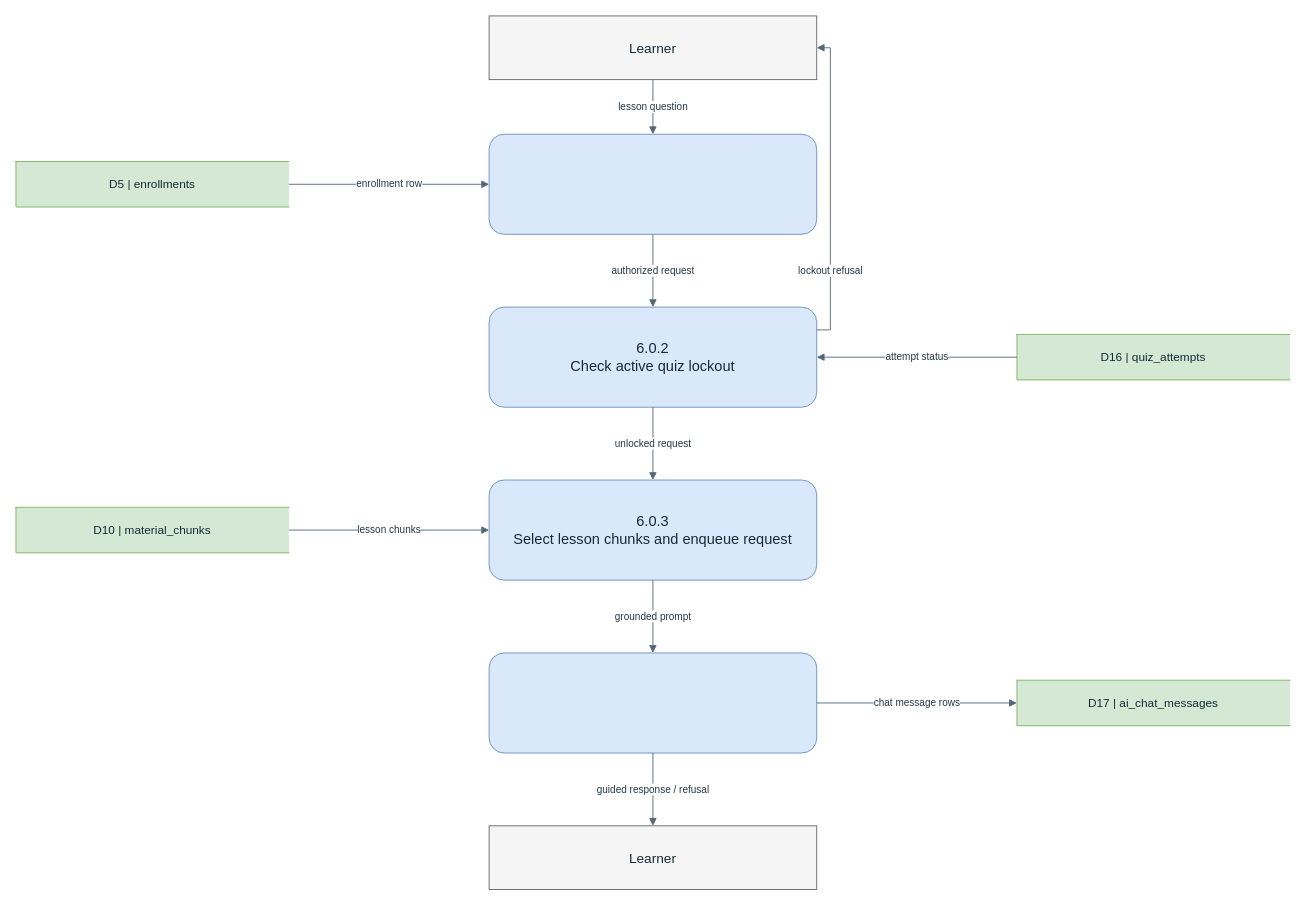
Some shapes in this 1306 by 905 pixel diagram are drawn without their labels. The box of each missing label's shape, as (x1, y1, x2, y2) in pixels:
6.0.1 Authorize learner and classroom: (488, 133, 817, 234)
6.0.4 Stream grounded response and persist history: (488, 652, 817, 753)
